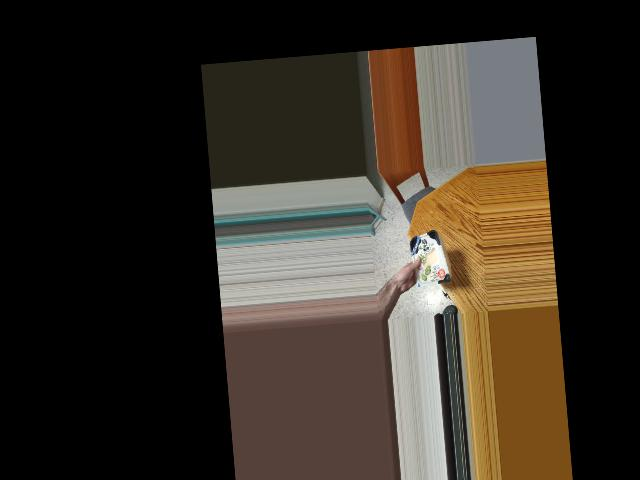cheese: (404, 235, 450, 278)
